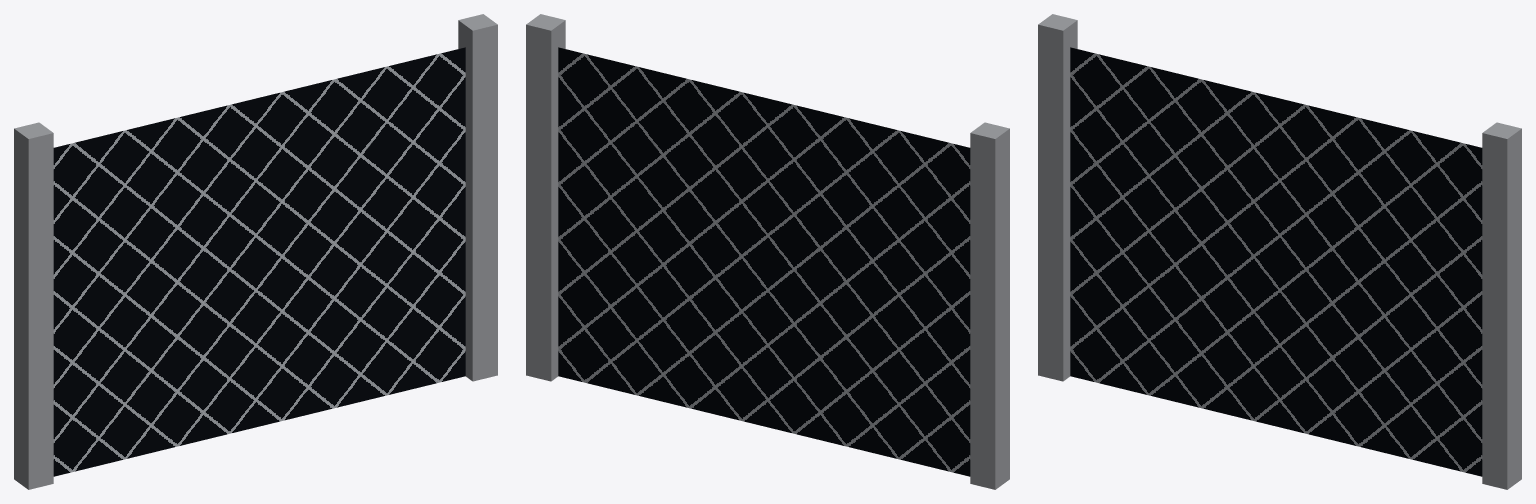
The model's file is fence.glb.
The picture shows the model from 3 angles, left to right: view 1: azimuth 30°, elevation 25°; view 2: azimuth 150°, elevation 25°; view 3: azimuth 330°, elevation 25°; orthographic projection.
Visible parts, largest first — view 1: fence; view 2: fence; view 3: fence.
Boxes of the visible parts, x1,y1,x2,y2 form: fence: [14, 14, 497, 489]; fence: [526, 14, 1009, 489]; fence: [1038, 14, 1521, 489].
Size of the model in its own units: 2.24 by 1.6 by 0.12.
Materials: 2 (1 with a texture image).
